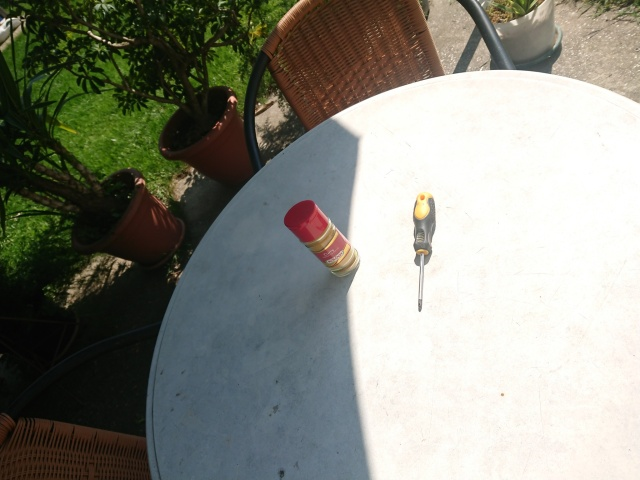Kotanyi Curry Spices Mix 70g: (282, 198, 362, 279)
